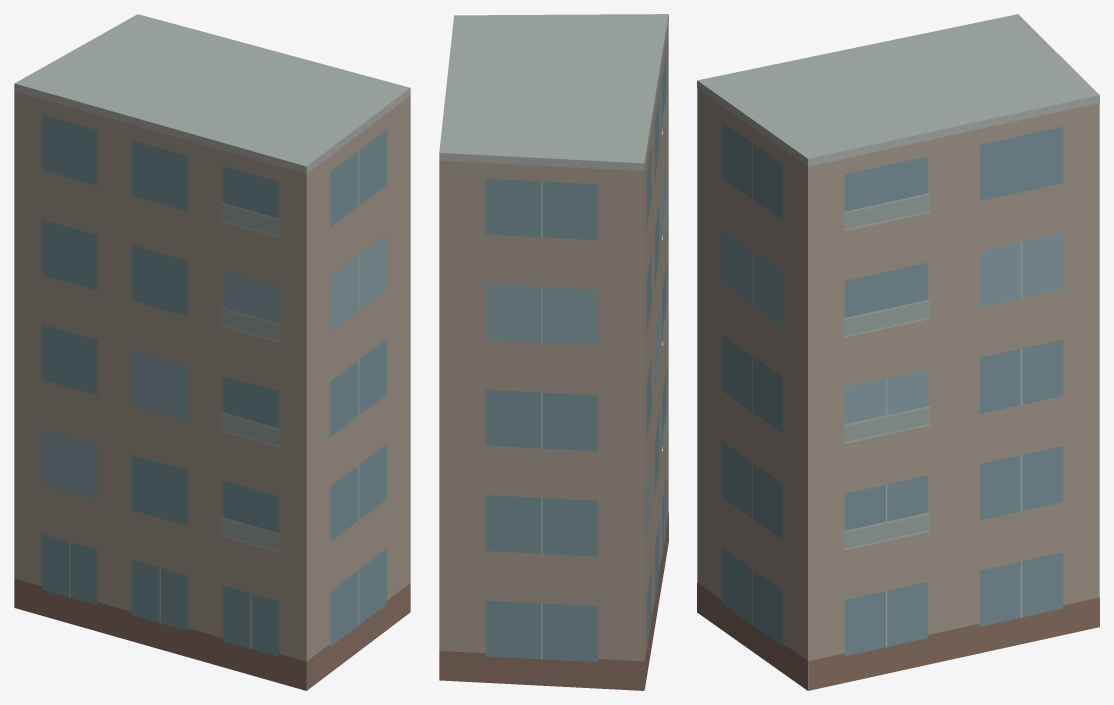
The model's file is survey-upis-33013670.glb.
3 views of the same model, side by side, from view 1: azimuth 30°, elevation 25°; view 2: azimuth 150°, elevation 25°; view 3: azimuth 270°, elevation 25° (orthographic).
Visible parts, largest first — view 1: survey-upis-33013670.tmp; view 2: survey-upis-33013670.tmp; view 3: survey-upis-33013670.tmp.
Part boxes in pixels (x1=…): survey-upis-33013670.tmp: x1=14, y1=14, x2=410, y2=690; survey-upis-33013670.tmp: x1=439, y1=14, x2=668, y2=690; survey-upis-33013670.tmp: x1=697, y1=14, x2=1099, y2=690.
Bounding box in the file's own units: 9.71 × 16.6 × 11.4.
